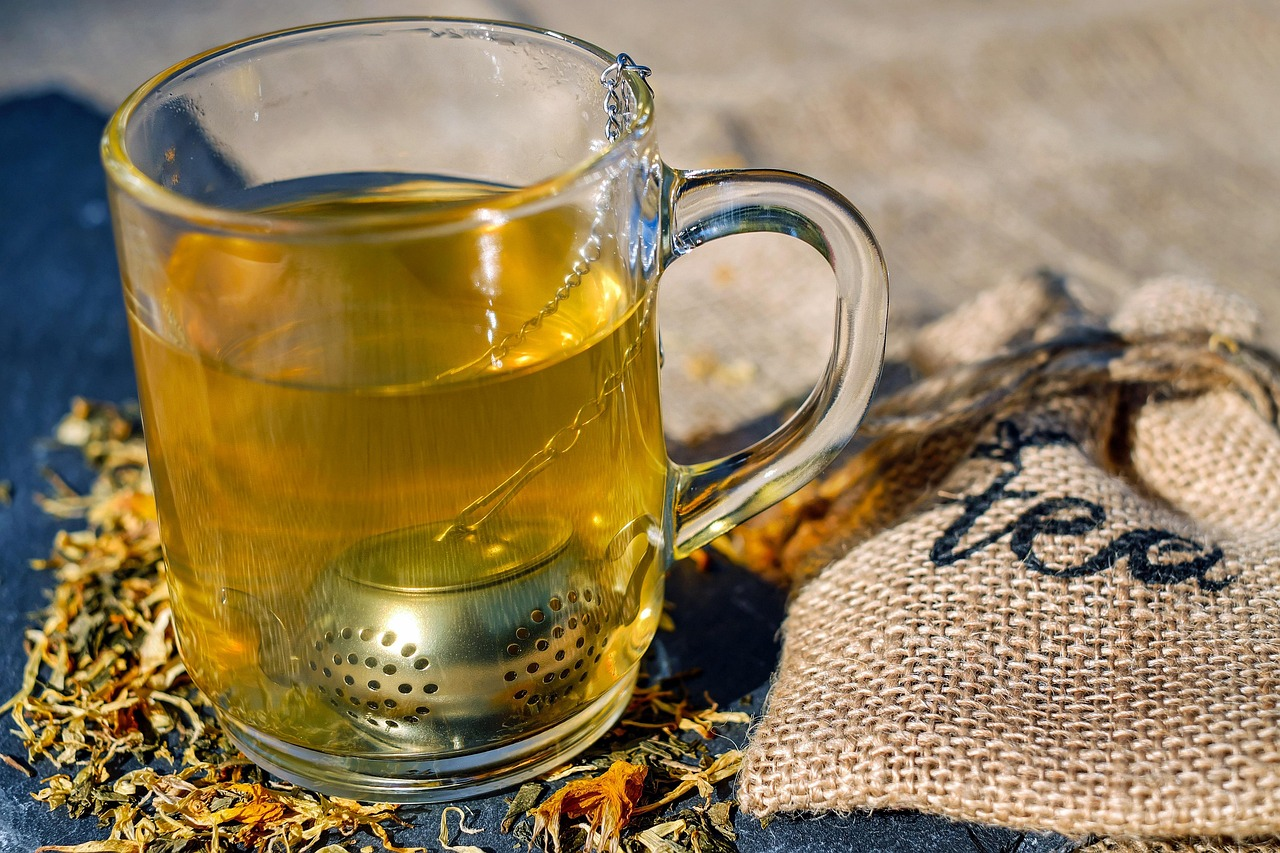mug: (71, 17, 903, 795)
